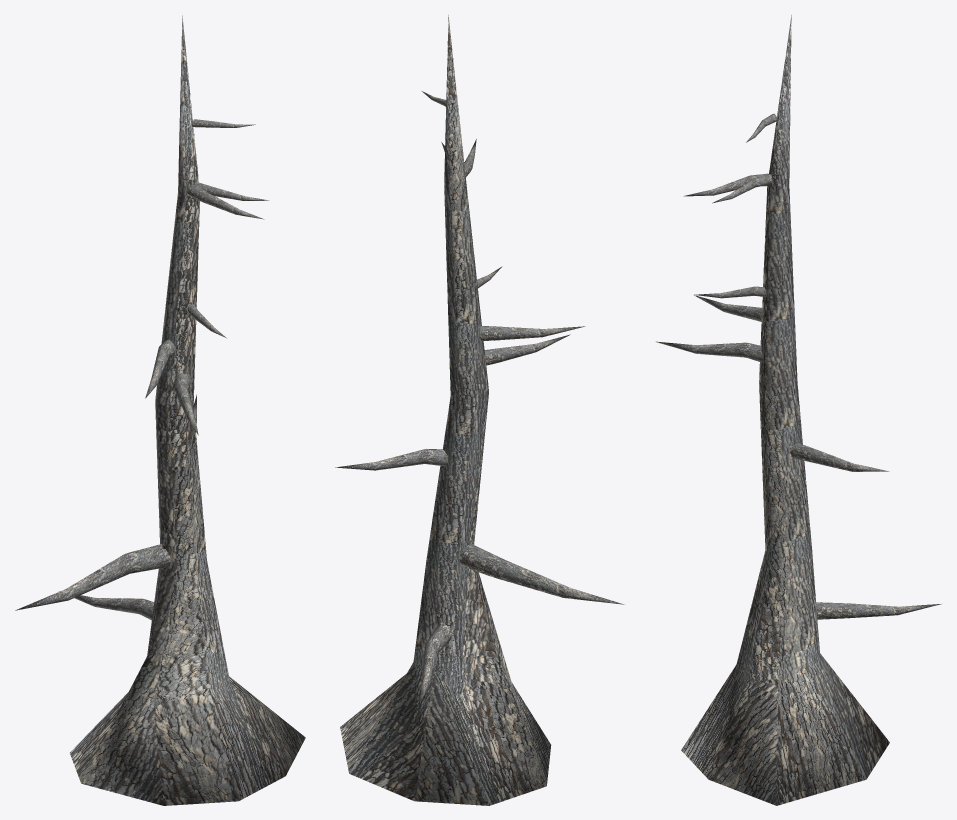
File: PineTree.fbx
3 renders of one model, left to right at view 1: azimuth 30°, elevation 25°; view 2: azimuth 150°, elevation 25°; view 3: azimuth 270°, elevation 25°, orthographic.
Visible parts, largest first — view 1: Cube, Branch; view 2: Cube, Branch; view 3: Cube, Branch.
Boxes of the visible parts, x1,y1,x2,y2 form: Cube: [70, 15, 305, 805]; Branch: [15, 119, 269, 620]; Cube: [340, 15, 551, 805]; Branch: [335, 91, 624, 703]; Cube: [681, 15, 889, 805]; Branch: [655, 113, 941, 619].
Size of the model in its own units: 435 by 1075 by 382.
